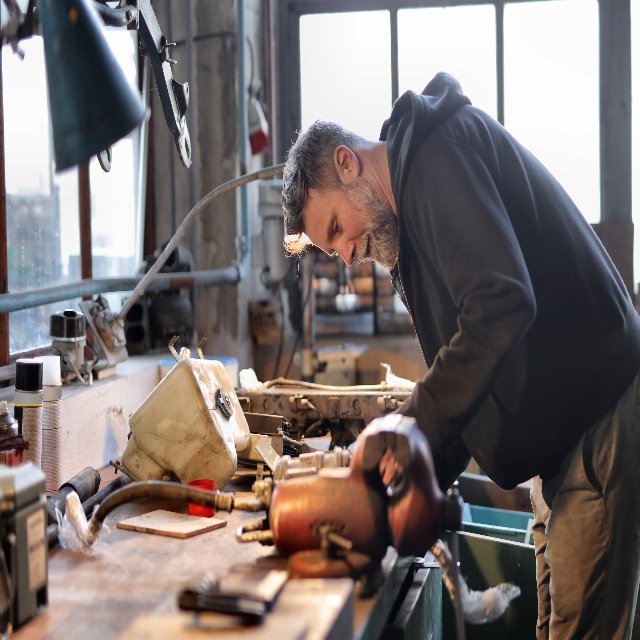Sin_guantes: (378, 446, 403, 486)
